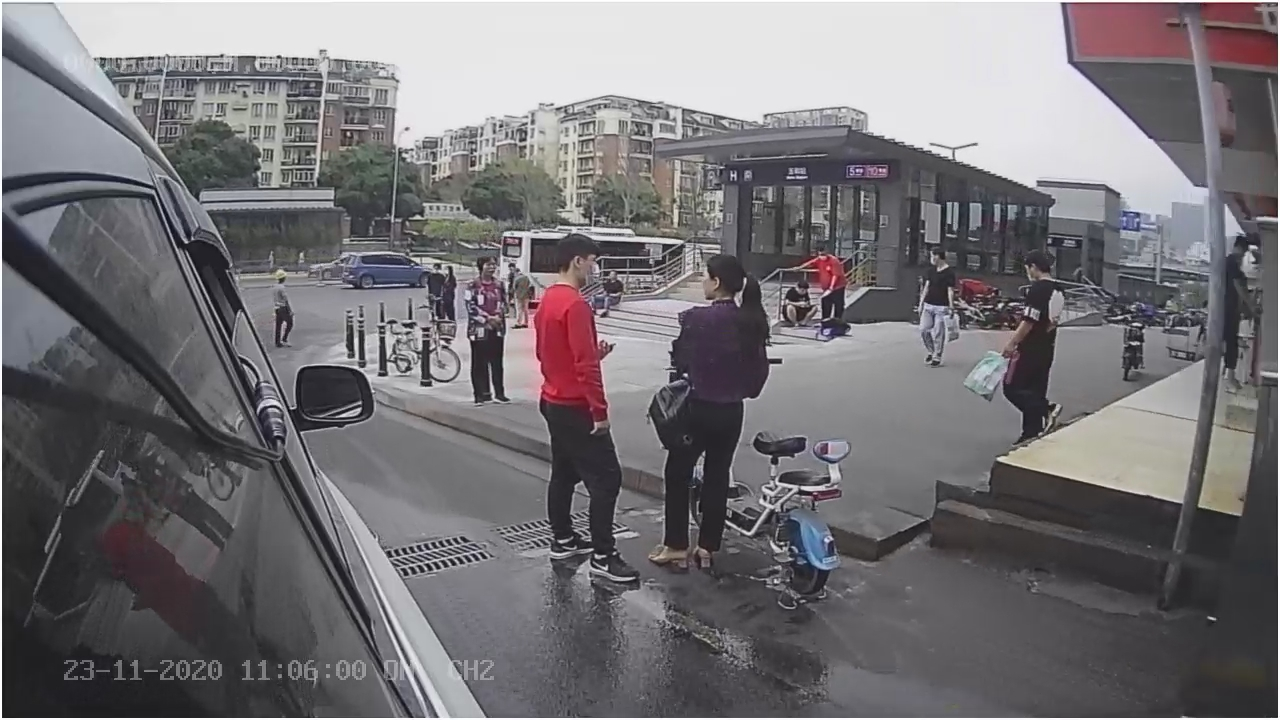person: (529, 233, 646, 583)
